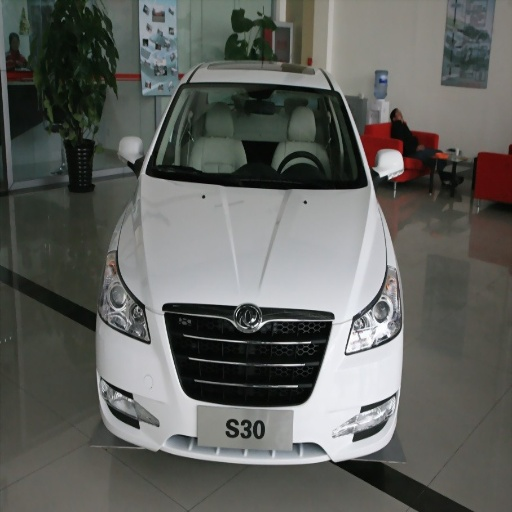front_bumper: (97, 303, 400, 464)
front_right_light: (99, 251, 150, 342)
hood: (121, 176, 384, 319)
